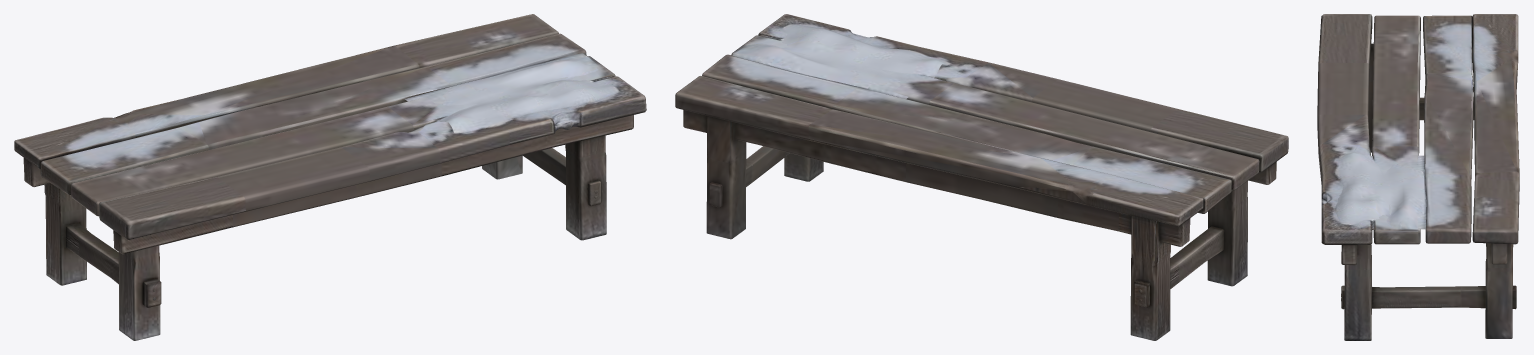
File: onsen-bench.glb
The picture shows the model from 3 angles, left to right: view 1: azimuth 30°, elevation 25°; view 2: azimuth 150°, elevation 25°; view 3: azimuth 270°, elevation 25°; orthographic projection. The views are drawn at different scales.
Visible parts, largest first — view 1: tripo_node_85f39d7d-c317-41b3-8225-16067554d573; view 2: tripo_node_85f39d7d-c317-41b3-8225-16067554d573; view 3: tripo_node_85f39d7d-c317-41b3-8225-16067554d573.
Part boxes in pixels (<box>): tripo_node_85f39d7d-c317-41b3-8225-16067554d573: <box>14,14,646,340</box>; tripo_node_85f39d7d-c317-41b3-8225-16067554d573: <box>675,14,1288,340</box>; tripo_node_85f39d7d-c317-41b3-8225-16067554d573: <box>1317,14,1519,340</box>.
Bounding box in the file's own units: 1.6 × 0.438 × 0.6277.
Materials: 1 (1 with a texture image).
